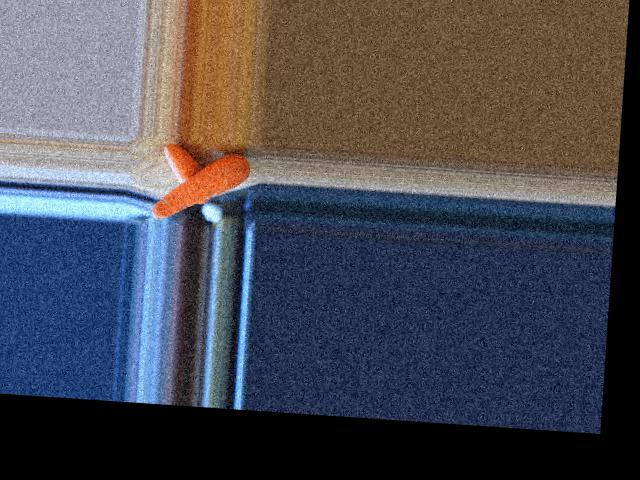carrot: (163, 143, 215, 204)
